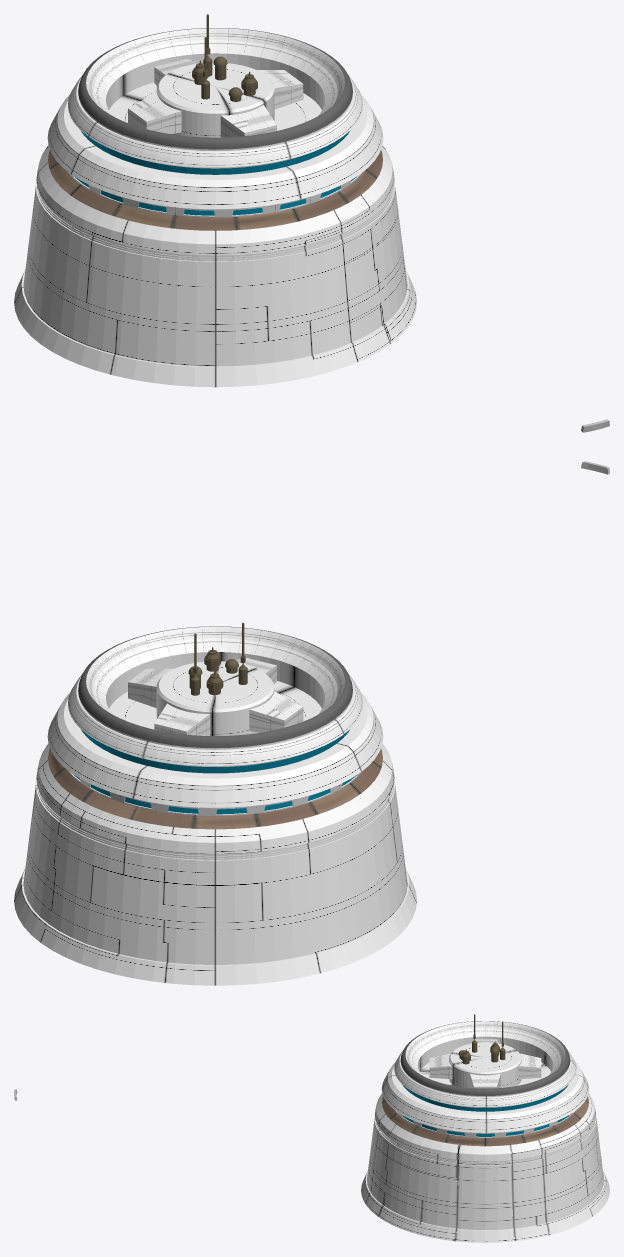
The picture shows the model from 3 angles, top to bottom: view 1: azimuth 30°, elevation 25°; view 2: azimuth 150°, elevation 25°; view 3: azimuth 270°, elevation 25°; orthographic projection. The views are drawn at different scales.
Visible parts, largest first — view 1: mainbody, Shape06, Shape04, Shape03, Shape05, Shape07, Shape08, Shape02, Shape01, Box04, Box02, Box03 (+1 smaller); view 2: mainbody, Shape06, Shape04, Shape03, Shape05, Shape07, Shape08, Shape02, Box04, Shape01, Box01, Box03 (+1 smaller); view 3: mainbody, Shape06, Shape04, Shape03, Shape05, Shape07, Shape08, Shape02, Shape01, Box02, Box01, Box03 (+1 smaller).
Part boxes in pixels (left/top/right/bottom): mainbody: left=14, top=145, right=416, bottom=387; Shape06: left=47, top=94, right=383, bottom=209; Shape04: left=106, top=53, right=324, bottom=137; Shape03: left=86, top=28, right=344, bottom=115; Shape05: left=68, top=76, right=363, bottom=168; Shape07: left=48, top=150, right=382, bottom=230; Shape08: left=78, top=28, right=352, bottom=149; Shape02: left=81, top=130, right=350, bottom=174; Shape01: left=68, top=172, right=362, bottom=217; Box04: left=128, top=93, right=181, bottom=133; Box02: left=220, top=105, right=276, bottom=137; Box03: left=257, top=70, right=303, bottom=109; mainbody: left=14, top=744, right=416, bottom=985; Shape06: left=47, top=693, right=383, bottom=808; Shape04: left=106, top=652, right=324, bottom=735; Shape03: left=86, top=626, right=344, bottom=714; Shape05: left=68, top=675, right=363, bottom=766; Shape07: left=48, top=748, right=382, bottom=829; Shape08: left=78, top=626, right=352, bottom=748; Shape02: left=81, top=729, right=349, bottom=773; Box04: left=249, top=691, right=303, bottom=732; Shape01: left=67, top=770, right=363, bottom=815; Box01: left=154, top=703, right=210, bottom=735; Box03: left=128, top=668, right=173, bottom=708; mainbody: left=361, top=1093, right=609, bottom=1242; Shape06: left=381, top=1062, right=588, bottom=1133; Shape04: left=417, top=1036, right=552, bottom=1087; Shape03: left=405, top=1021, right=565, bottom=1074; Shape05: left=394, top=1051, right=576, bottom=1107; Shape07: left=382, top=1096, right=588, bottom=1146; Shape08: left=400, top=1021, right=570, bottom=1095; Shape02: left=403, top=1084, right=568, bottom=1111; Shape01: left=394, top=1110, right=576, bottom=1137; Box02: left=429, top=1053, right=452, bottom=1079; Box01: left=518, top=1053, right=541, bottom=1079; Box03: left=470, top=1073, right=500, bottom=1088.
Bounding box in the file's own units: 2.68 × 2.02 × 6.4.
Materials: 8 (3 with a texture image).
